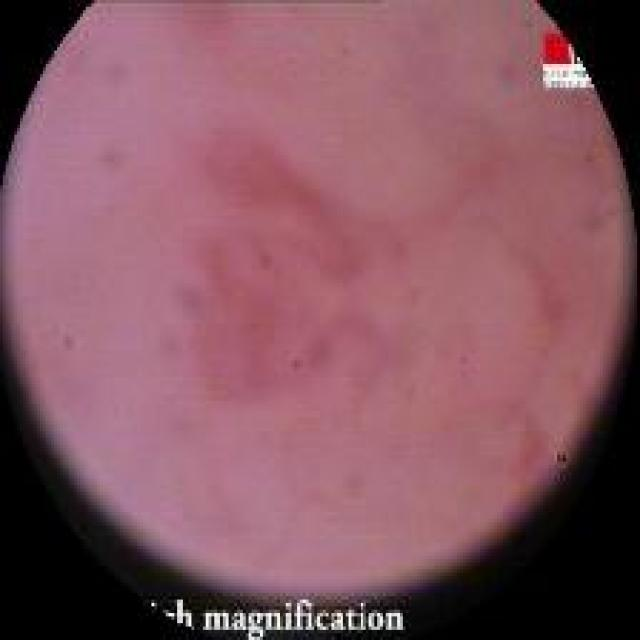color misalignment: (143, 595, 408, 640), (540, 30, 597, 91), (58, 330, 79, 354), (552, 446, 570, 468), (288, 356, 304, 372)
